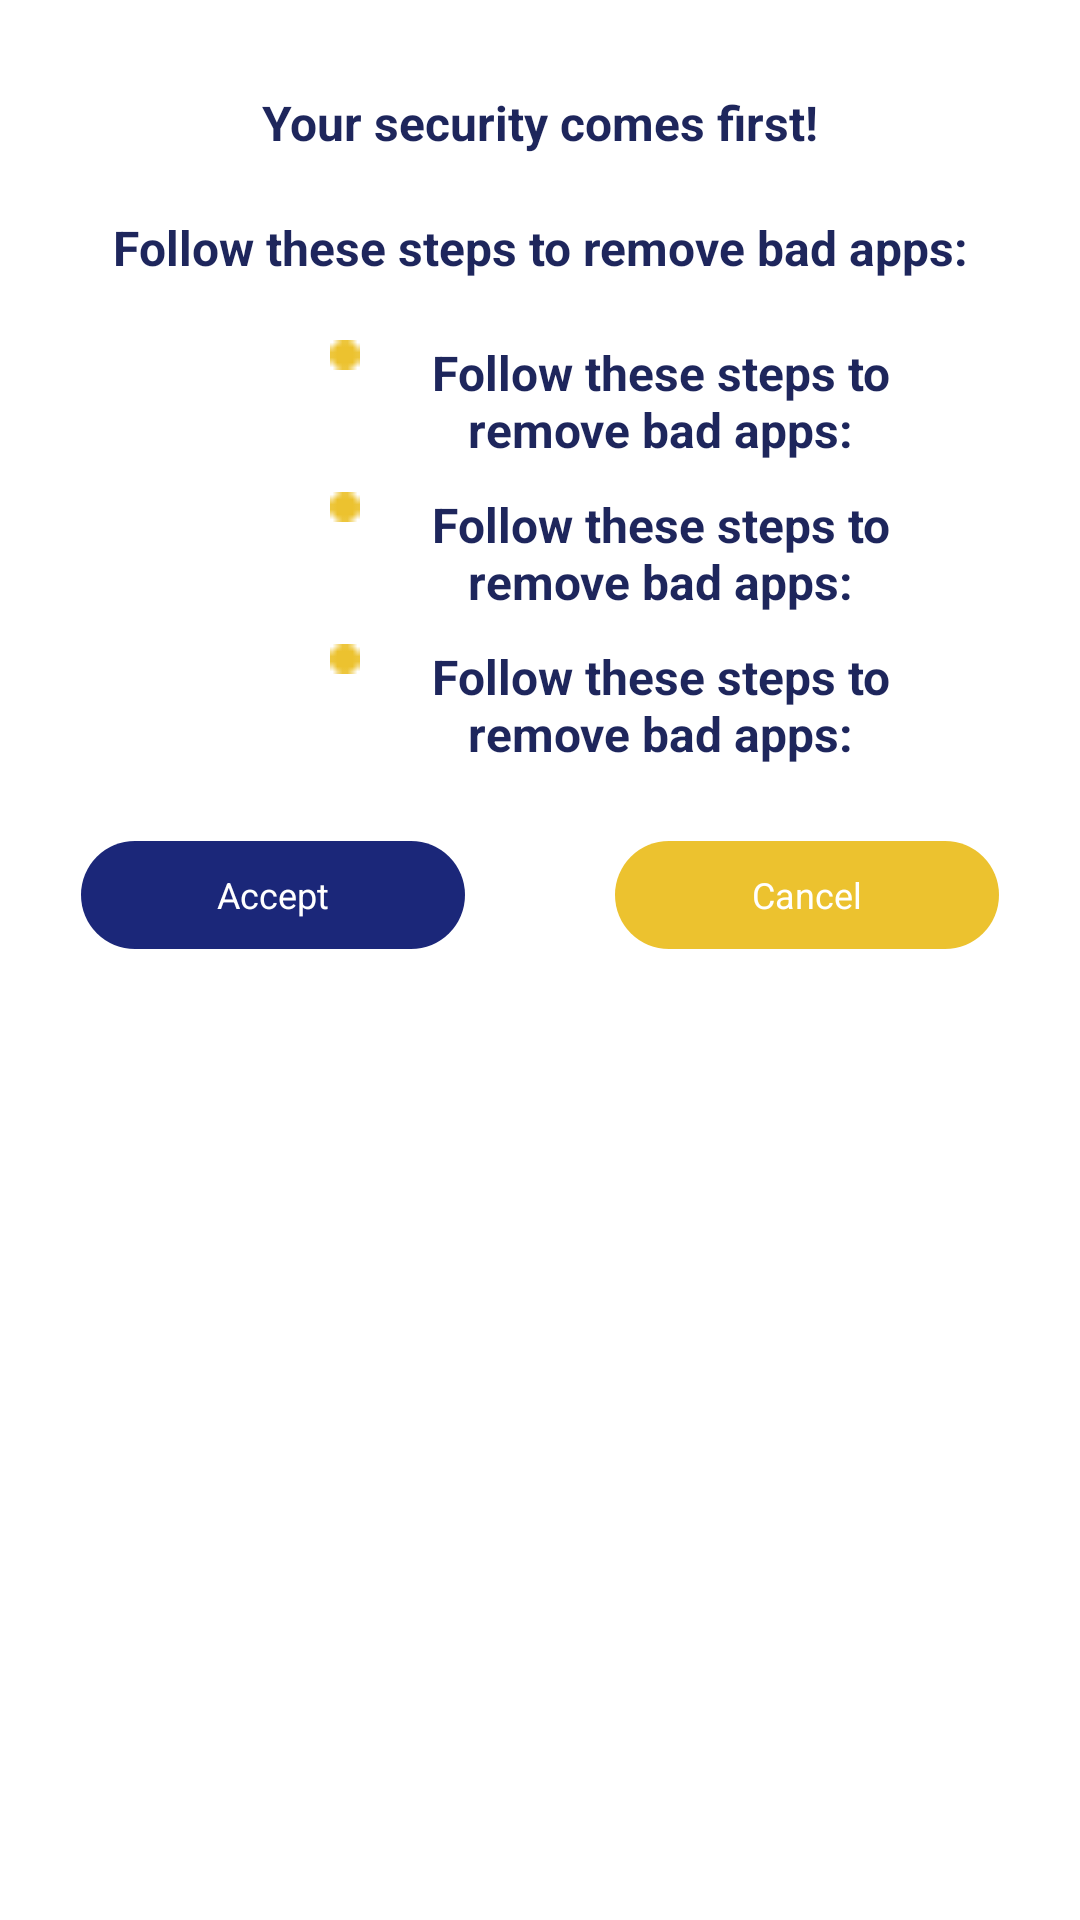

Screen size 1080 × 1920. Icon name, then its box in pixels as (x1, y1, x2, y2):
bulletpoint: (330, 340, 360, 370), (330, 492, 360, 522), (330, 644, 360, 674)
